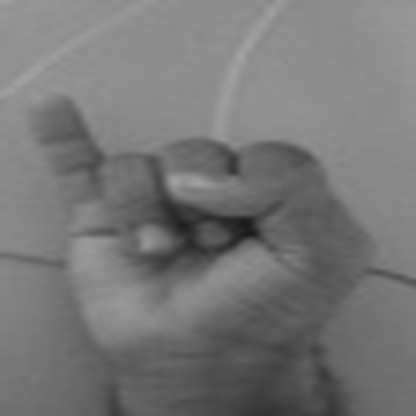i: (23, 86, 333, 361)
